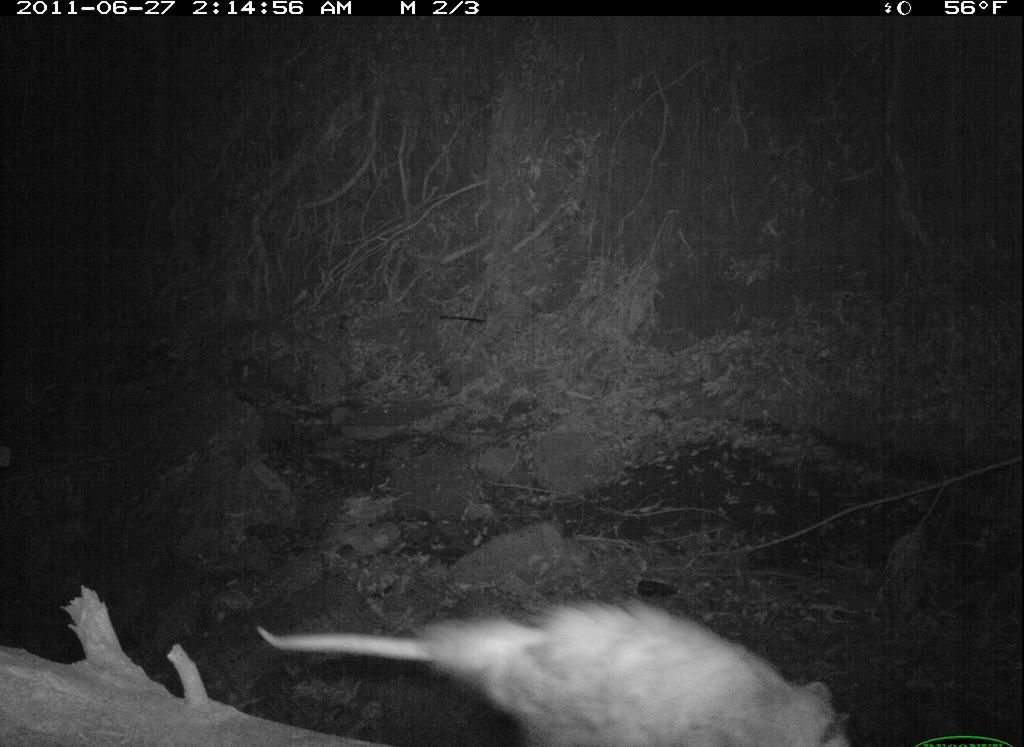opossum: (254, 593, 859, 745)
